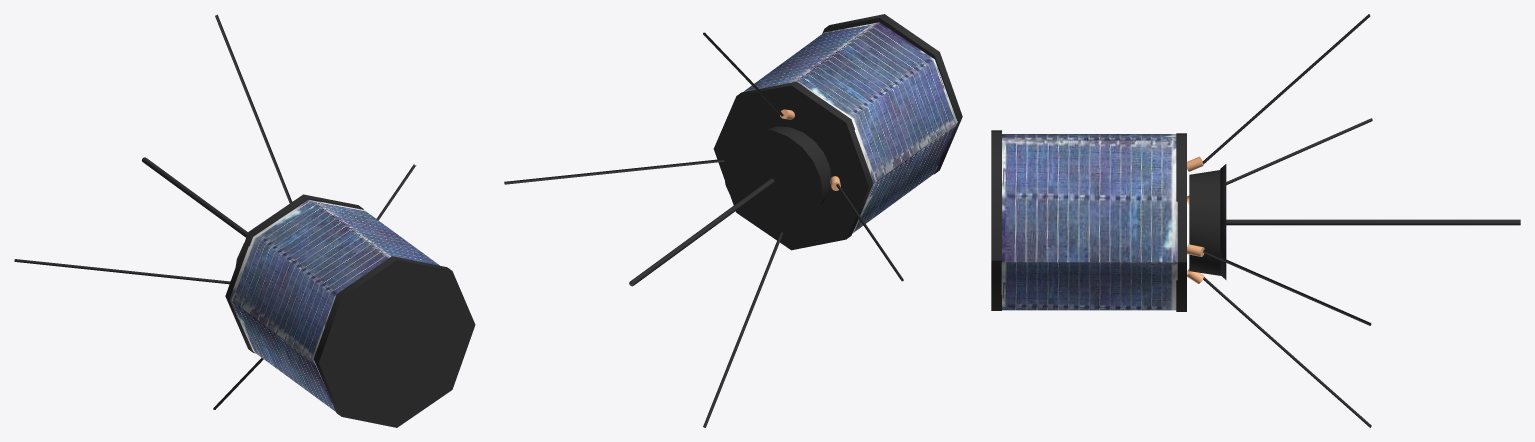
File: satellite.glb
3 views of the same model, side by side, from view 1: azimuth 30°, elevation 25°; view 2: azimuth 150°, elevation 25°; view 3: azimuth 270°, elevation 25° (orthographic). The views are drawn at different scales.
Parts seen in each view (by area): view 1: Duplicate0, Cylinder01, cylinder1, Duplica_1_; view 2: Cylinder01, Duplica_1_, cylinder0, cylinder1, Duplicate0; view 3: Cylinder01, cylinder1, cylinder0, Duplicate0, Duplica_1_, cylinder2.
Boxes of the visible parts, left/top/right/bottom form: Duplicate0: left=313, top=256, right=475, bottom=427; Cylinder01: left=229, top=199, right=439, bottom=411; cylinder1: left=14, top=14, right=416, bottom=409; Duplica_1_: left=225, top=194, right=363, bottom=353; Cylinder01: left=743, top=22, right=957, bottom=233; Duplica_1_: left=713, top=81, right=873, bottom=250; cylinder0: left=723, top=126, right=831, bottom=232; cylinder1: left=504, top=32, right=903, bottom=427; Duplicate0: left=822, top=14, right=962, bottom=174; Cylinder01: left=1001, top=134, right=1177, bottom=310; cylinder1: left=1202, top=14, right=1520, bottom=427; cylinder0: left=1189, top=164, right=1226, bottom=279; Duplicate0: left=991, top=130, right=1001, bottom=310; Duplica_1_: left=1176, top=133, right=1186, bottom=311; cylinder2: left=1187, top=156, right=1204, bottom=283.
Bounding box in the file's own units: 37.48 × 35.31 × 40.94.
Materials: 3 (1 with a texture image).
